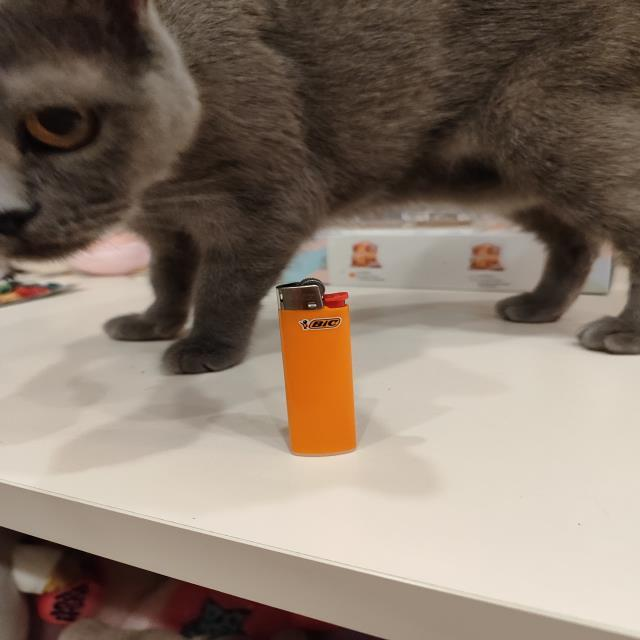lighter: (278, 278, 356, 456)
